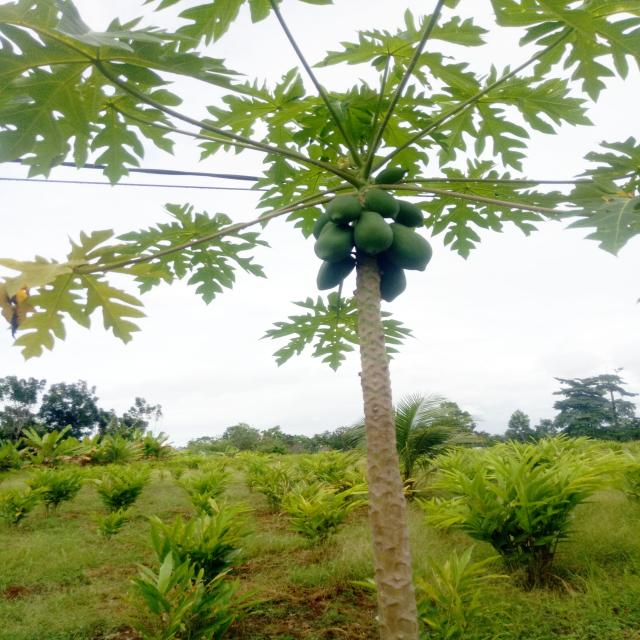Pepaya unrippen: (310, 225, 352, 265), (356, 214, 389, 254), (402, 230, 429, 274), (317, 266, 355, 293), (323, 197, 359, 222)
